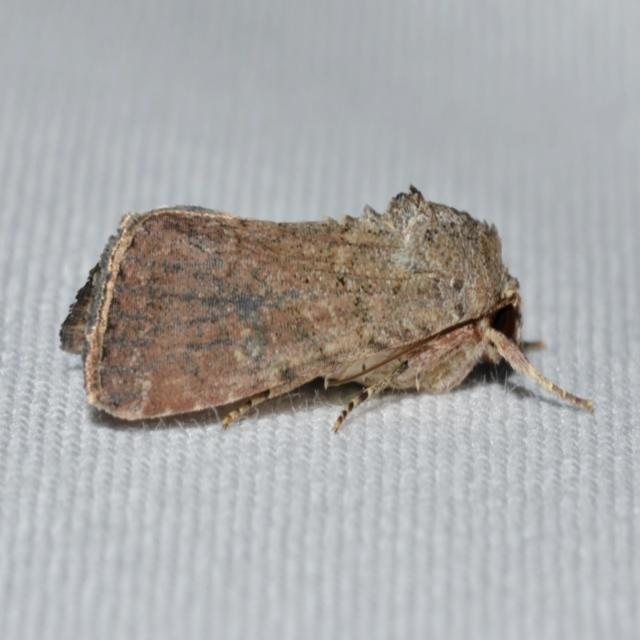army worm: (58, 186, 593, 421)
